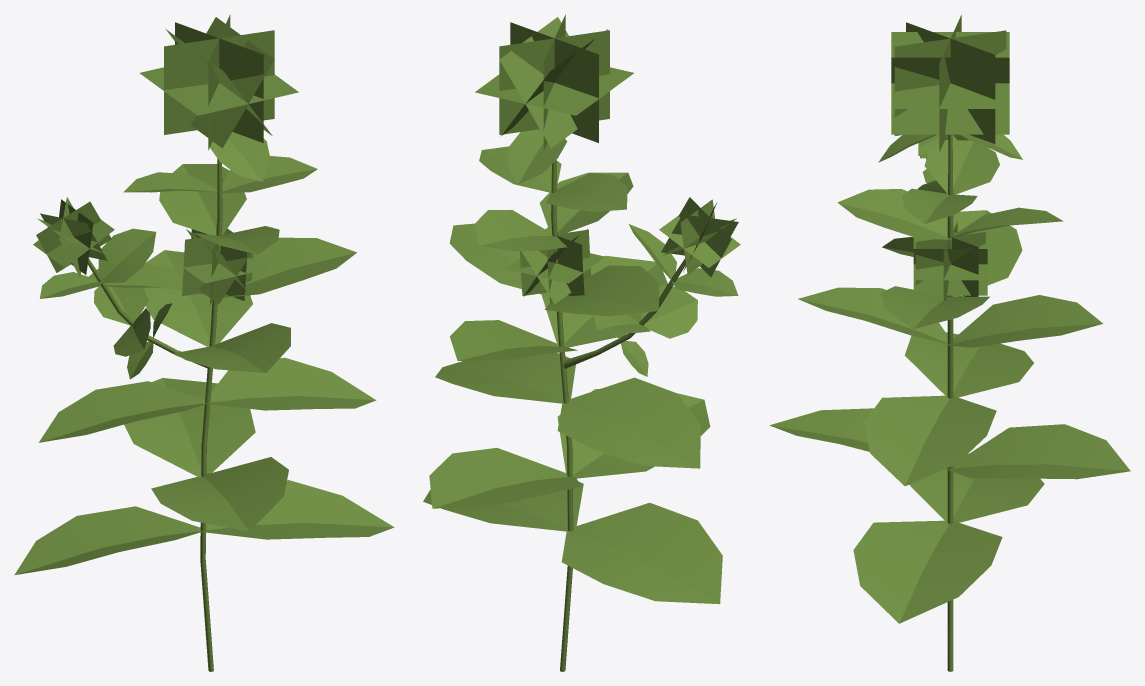
File: Water_Mint_2.glb
The picture shows the model from 3 angles, left to right: view 1: azimuth 30°, elevation 25°; view 2: azimuth 150°, elevation 25°; view 3: azimuth 270°, elevation 25°; orthographic projection.
Visible parts, largest first — view 1: Water_Mint_2; view 2: Water_Mint_2; view 3: Water_Mint_2.
Boxes of the visible parts, left/top/right/bottom form: Water_Mint_2: left=14, top=14, right=394, bottom=671; Water_Mint_2: left=423, top=14, right=740, bottom=671; Water_Mint_2: left=769, top=15, right=1130, bottom=671.
Bounding box in the file's own units: 23 × 41.33 × 21.31.
